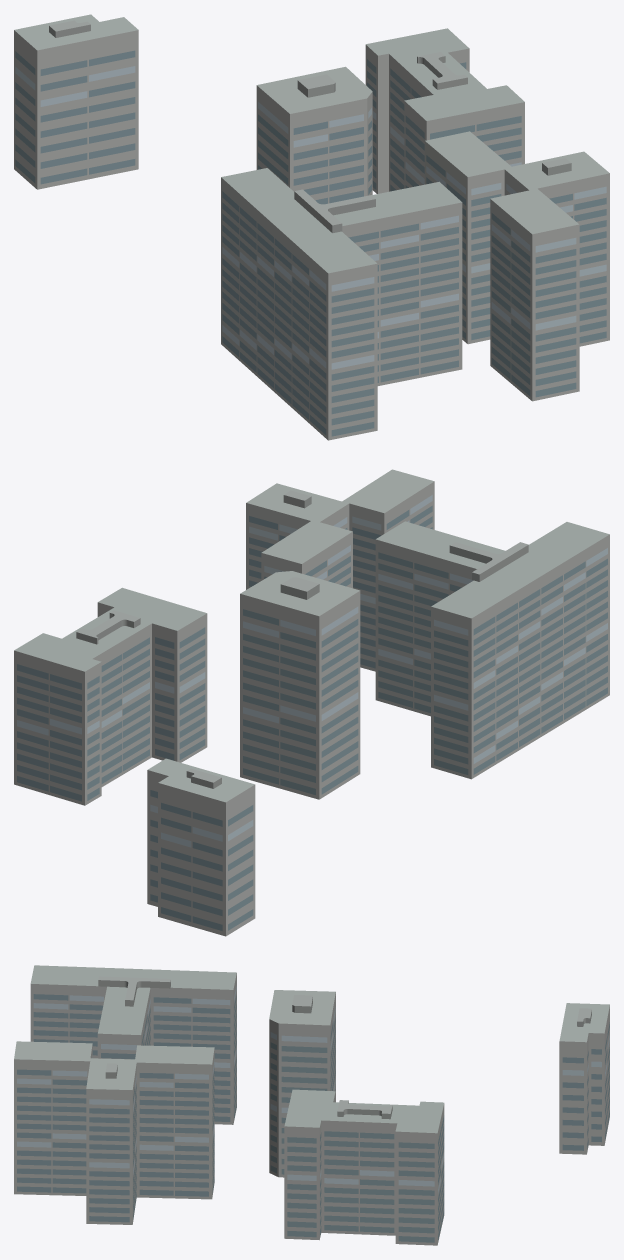
The model's file is apt-a15370301.glb.
3 views of the same model, one above another, from view 1: azimuth 30°, elevation 25°; view 2: azimuth 150°, elevation 25°; view 3: azimuth 270°, elevation 25° (orthographic). The views are drawn at different scales.
Parts seen in each view (by area): view 1: apt-a15370301; view 2: apt-a15370301; view 3: apt-a15370301.
Boxes of the visible parts, x1=… form: apt-a15370301: x1=14, y1=14, x2=609, y2=440; apt-a15370301: x1=14, y1=469, x2=609, y2=936; apt-a15370301: x1=14, y1=965, x2=609, y2=1245.
Bounding box in the file's own units: 92.75 × 47.81 × 161.
